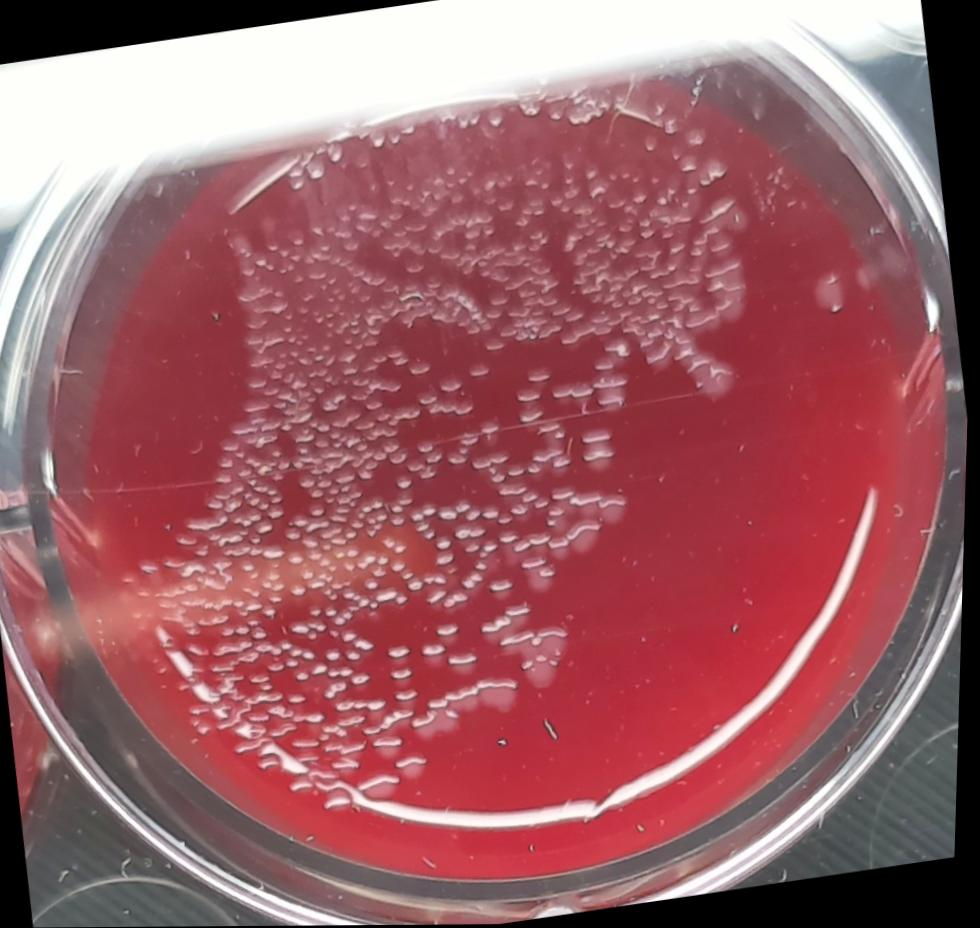pdpiscicida: (689, 352, 742, 403), (808, 269, 851, 320), (567, 516, 607, 556), (597, 489, 635, 529), (582, 440, 620, 474), (464, 355, 495, 385), (450, 649, 484, 676), (597, 386, 630, 413), (527, 361, 557, 389), (489, 575, 521, 600), (581, 422, 617, 444), (507, 599, 536, 626), (388, 642, 418, 668), (519, 400, 549, 426), (438, 619, 465, 645), (549, 535, 575, 562), (480, 418, 504, 447), (497, 479, 532, 498), (439, 371, 467, 394), (444, 589, 474, 610), (516, 384, 544, 405), (409, 356, 434, 379), (484, 336, 508, 359), (394, 472, 417, 494), (500, 527, 523, 549), (538, 562, 562, 583), (427, 586, 451, 607), (425, 447, 449, 467), (551, 453, 576, 472), (491, 446, 514, 466), (471, 453, 495, 472), (436, 551, 461, 569), (440, 504, 461, 525), (415, 436, 437, 456), (436, 534, 458, 554), (526, 459, 548, 479), (482, 503, 505, 522), (409, 575, 429, 595), (466, 504, 487, 523), (454, 499, 477, 516), (456, 523, 475, 543), (498, 510, 519, 528), (285, 525, 306, 543), (310, 500, 329, 519), (471, 523, 492, 540), (483, 538, 504, 555), (292, 582, 313, 599), (507, 462, 529, 478), (412, 508, 431, 526), (363, 548, 382, 566), (415, 519, 435, 536), (288, 550, 308, 567), (311, 576, 331, 593), (512, 502, 533, 518), (423, 501, 441, 519), (365, 575, 384, 592), (394, 540, 412, 557), (383, 534, 401, 551), (345, 525, 363, 542), (523, 489, 542, 505), (465, 541, 485, 556), (372, 495, 389, 512), (391, 514, 409, 530), (535, 495, 553, 511), (400, 493, 419, 508), (397, 591, 413, 608), (335, 545, 351, 562), (425, 526, 440, 542), (348, 545, 364, 560)
